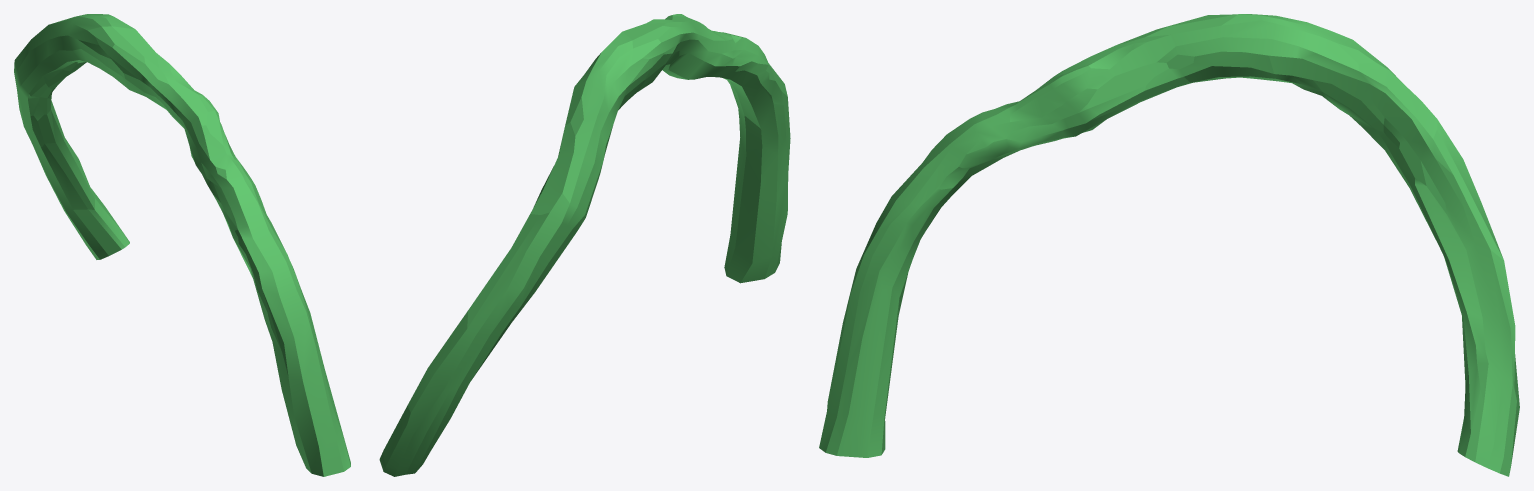
Rendered from jungle_trunk_C_arc.fbx.
3 renders of one model, left to right at view 1: azimuth 30°, elevation 25°; view 2: azimuth 150°, elevation 25°; view 3: azimuth 270°, elevation 25°, orthographic. The views are drawn at different scales.
Visible parts, largest first — view 1: jungle_trunk_C_arc; view 2: jungle_trunk_C_arc; view 3: jungle_trunk_C_arc.
Part boxes in pixels (box(x1,y1,x2,y2)): jungle_trunk_C_arc: box(14, 14, 350, 476); jungle_trunk_C_arc: box(379, 14, 790, 476); jungle_trunk_C_arc: box(819, 14, 1519, 476).
Bounding box in the file's own units: 214 × 487 × 760.
